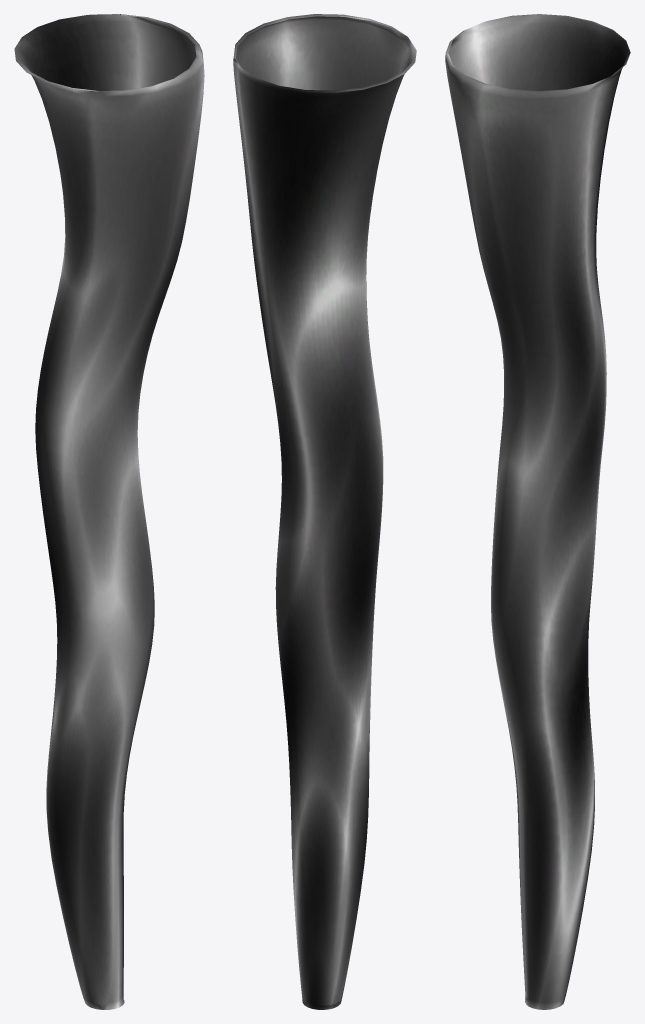
Rendered from 0354_kapuqiqi_shuilongjuan_M_01.glb.
3 views of the same model, side by side, from view 1: azimuth 30°, elevation 25°; view 2: azimuth 150°, elevation 25°; view 3: azimuth 270°, elevation 25° (orthographic).
Bounding box in the file's own units: 0.3971 × 2.2 × 0.3896.
Materials: 1 (1 with a texture image).
